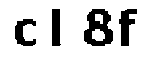8: (80, 3, 115, 50)
c: (11, 16, 39, 48)
f: (118, 7, 142, 53)
l: (48, 3, 67, 51)
